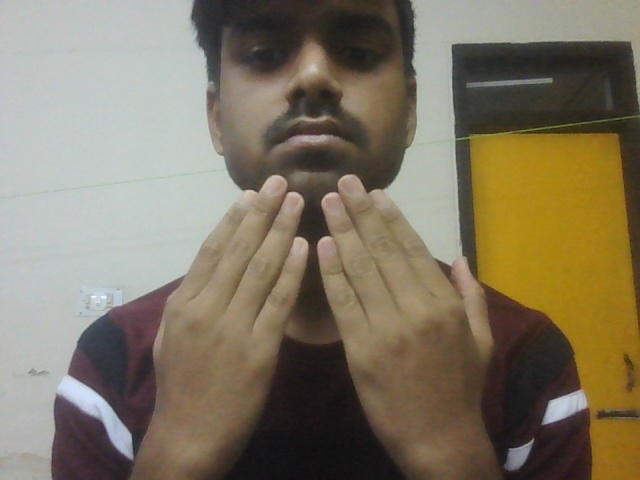thanks: (139, 162, 506, 480)
